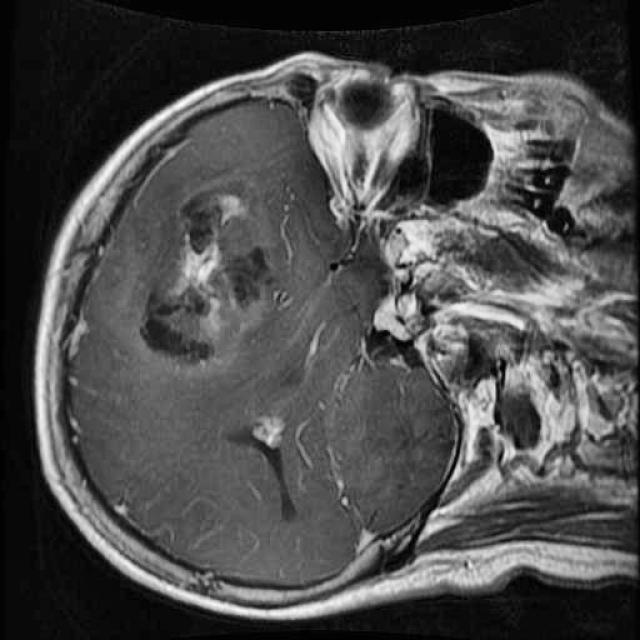Tumor: (120, 156, 290, 383)
